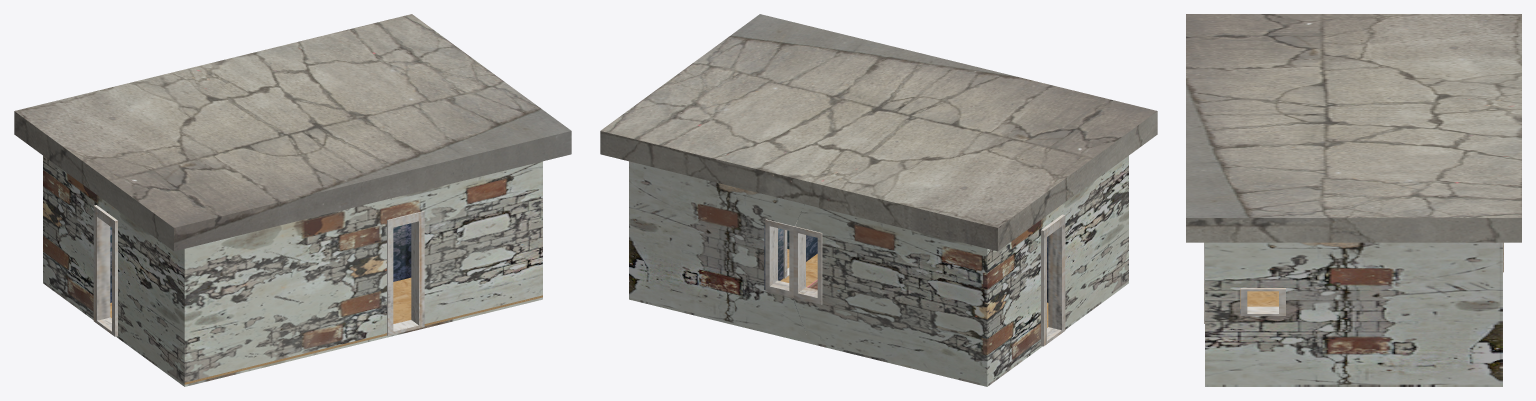
Rendered from House ver1.FBX.
The picture shows the model from 3 angles, left to right: view 1: azimuth 30°, elevation 25°; view 2: azimuth 150°, elevation 25°; view 3: azimuth 270°, elevation 25°; orthographic projection. The views are drawn at different scales.
Visible parts, largest first — view 1: Box004; view 2: Box004; view 3: Box004.
Boxes of the visible parts, bbox=[...] form: Box004: bbox=[14, 14, 571, 386]; Box004: bbox=[600, 14, 1157, 386]; Box004: bbox=[1186, 14, 1521, 386].
Size of the model in its own units: 586 by 240 by 408.
